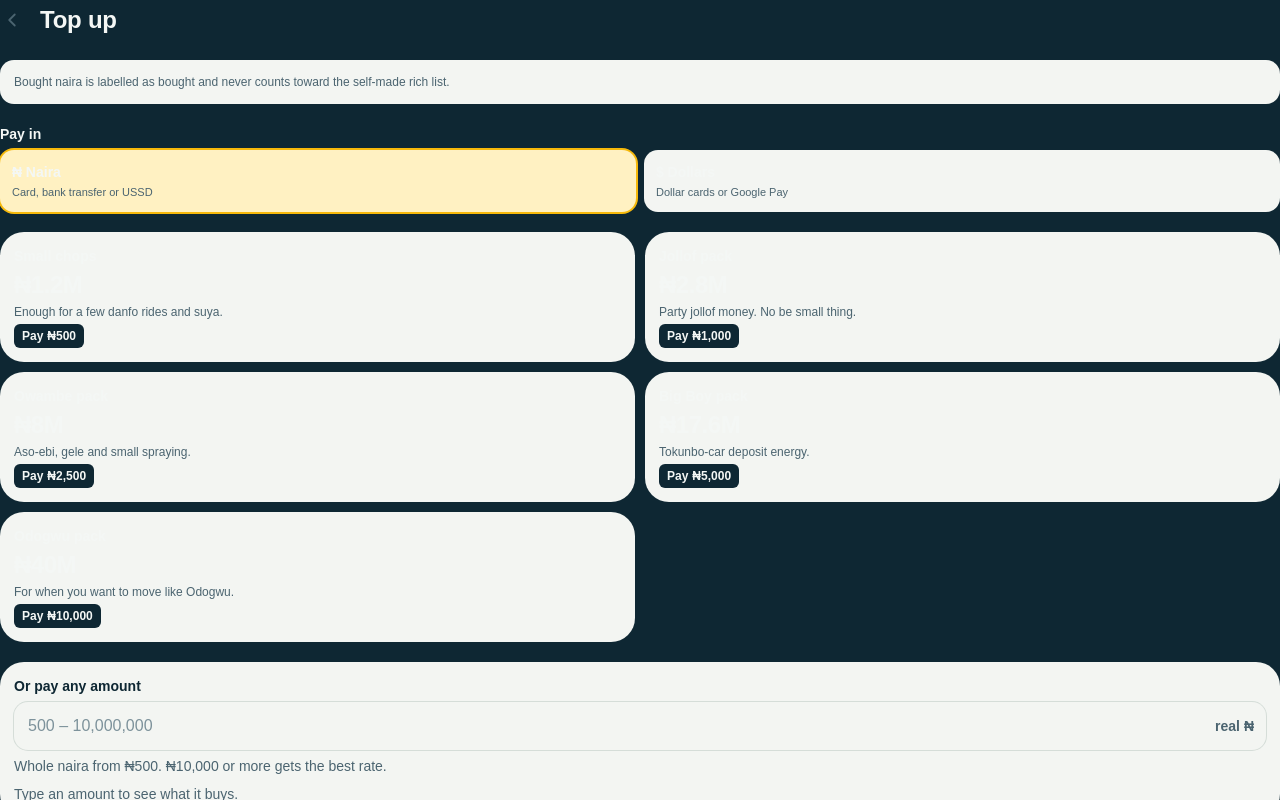
Scenario: TopUpScreen paying in dollars › re-reads the catalog and says why when the rate changed before paying
Click the radio button labelled "Dollars": x=691, y=172 644,150 -> 1279,212
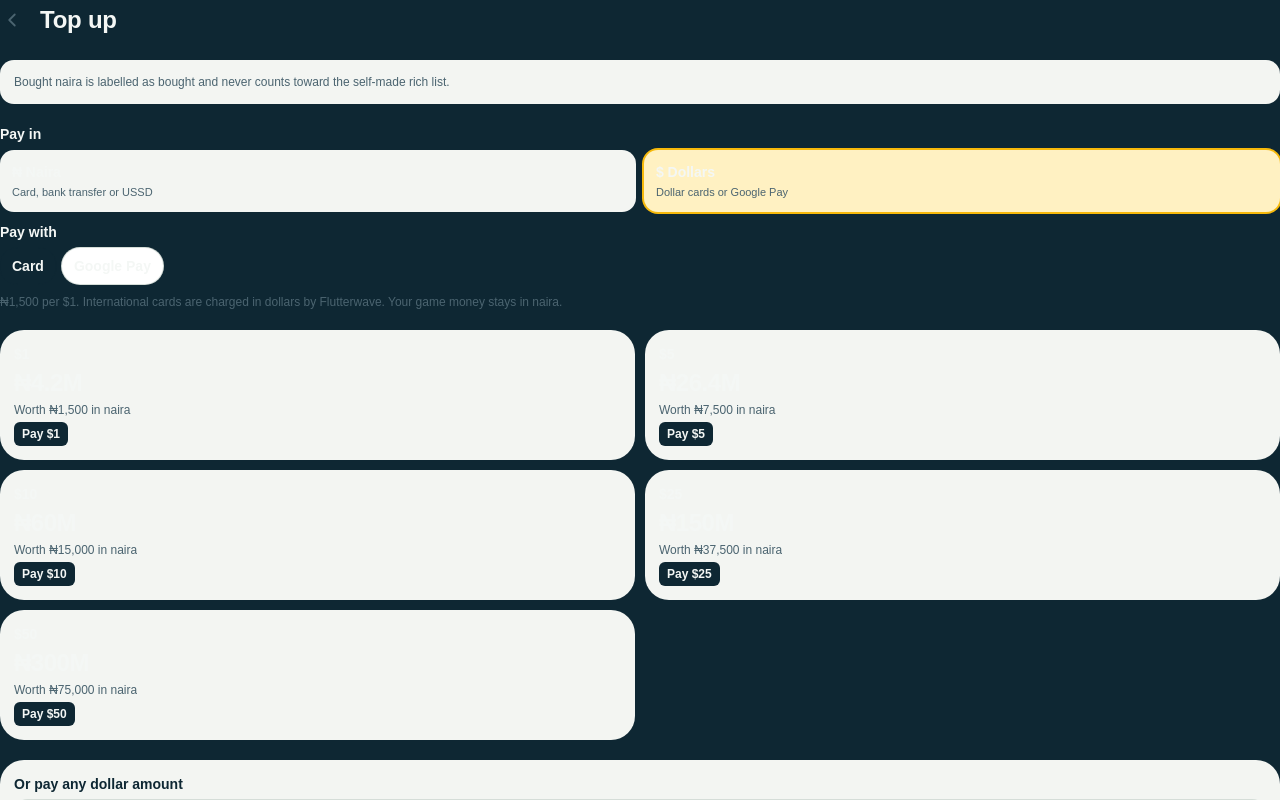
Click the button "$5 ₦26.4M Worth ₦7,500 in naira Pay $5": x=700, y=382 645,330 -> 1279,460
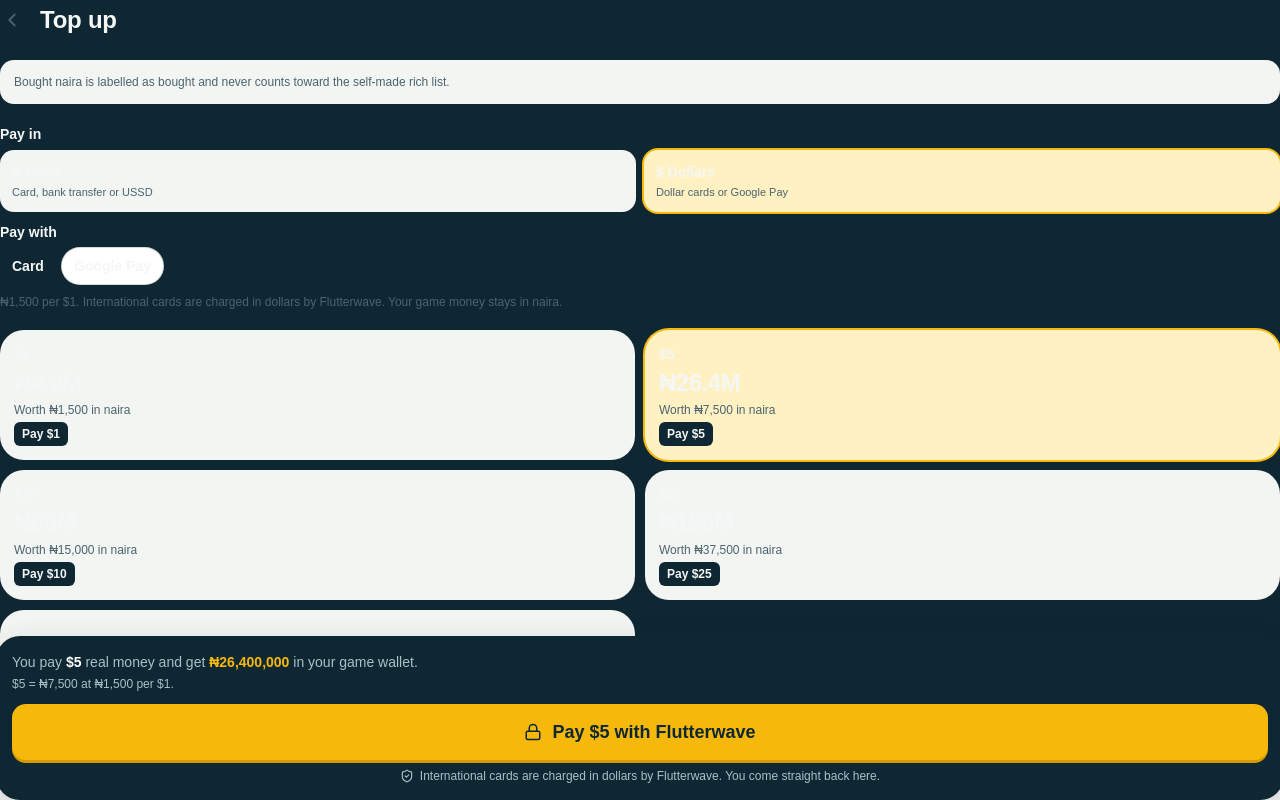
Click the button "Pay $5 with Flutterwave": x=640, y=732 12,704 -> 1268,760
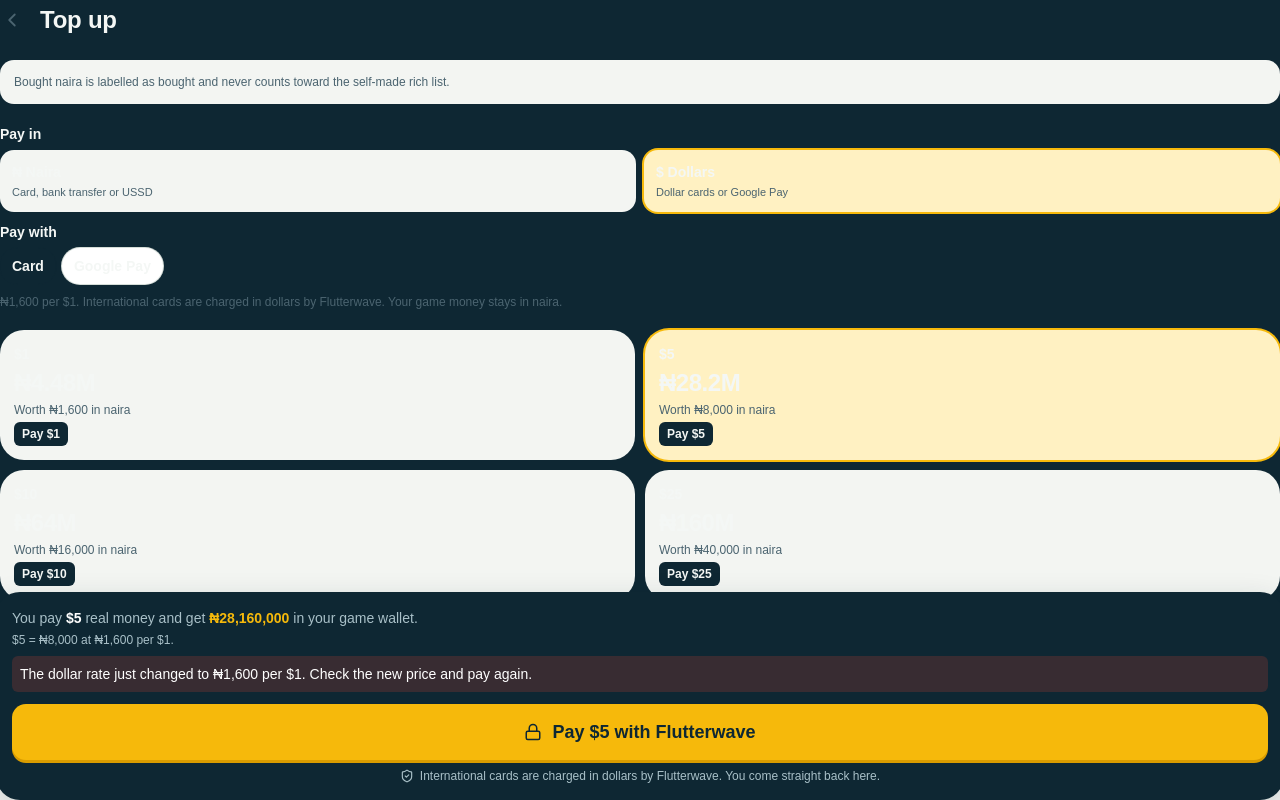
Expected: the message shows "The dollar rate just changed to ₦1,600 per $1. Check the new price and pay again.", 20,666 -> 532,682
Expected: the text "$5 = ₦8,000 at ₦1,600 per $1." is shown, 12,633 -> 174,647
